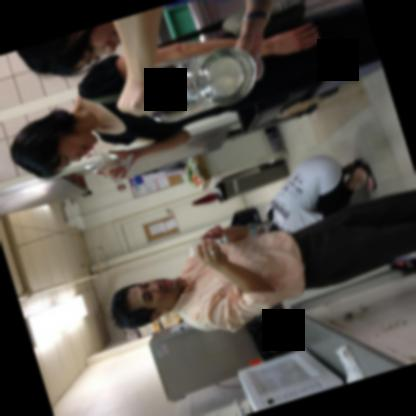handbag: (157, 0, 308, 45)
